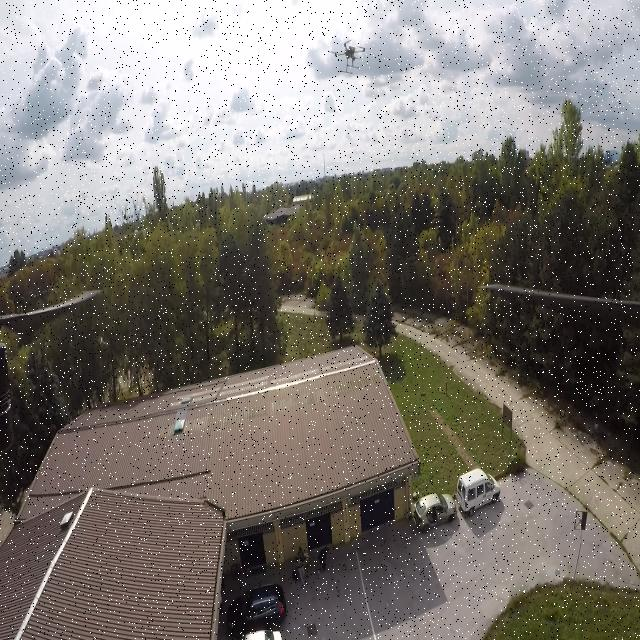UAV: (327, 34, 369, 81)
